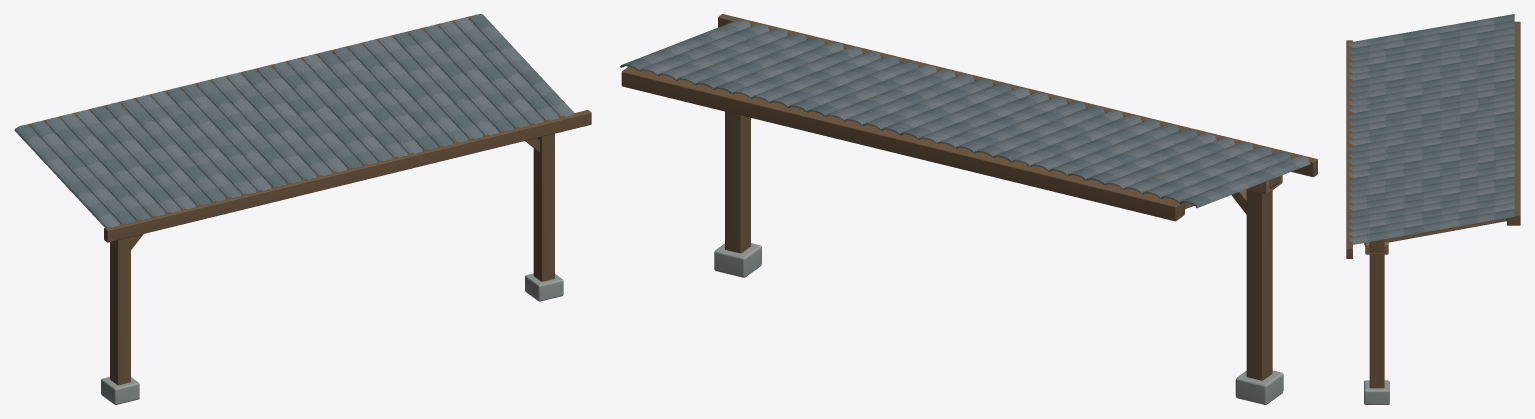
Rendered from tea-veranda-p2-v2.glb.
3 renders of one model, left to right at view 1: azimuth 30°, elevation 25°; view 2: azimuth 150°, elevation 25°; view 3: azimuth 270°, elevation 25°, orthographic. The views are drawn at different scales.
Visible parts, largest first — view 1: tea-veranda-p2-v2; view 2: tea-veranda-p2-v2; view 3: tea-veranda-p2-v2.
Boxes of the visible parts, x1=… form: tea-veranda-p2-v2: x1=14, y1=14, x2=591, y2=404; tea-veranda-p2-v2: x1=620, y1=14, x2=1317, y2=404; tea-veranda-p2-v2: x1=1346, y1=14, x2=1520, y2=404.
Bounding box in the file's own units: 7.2 × 3.13 × 2.55.
